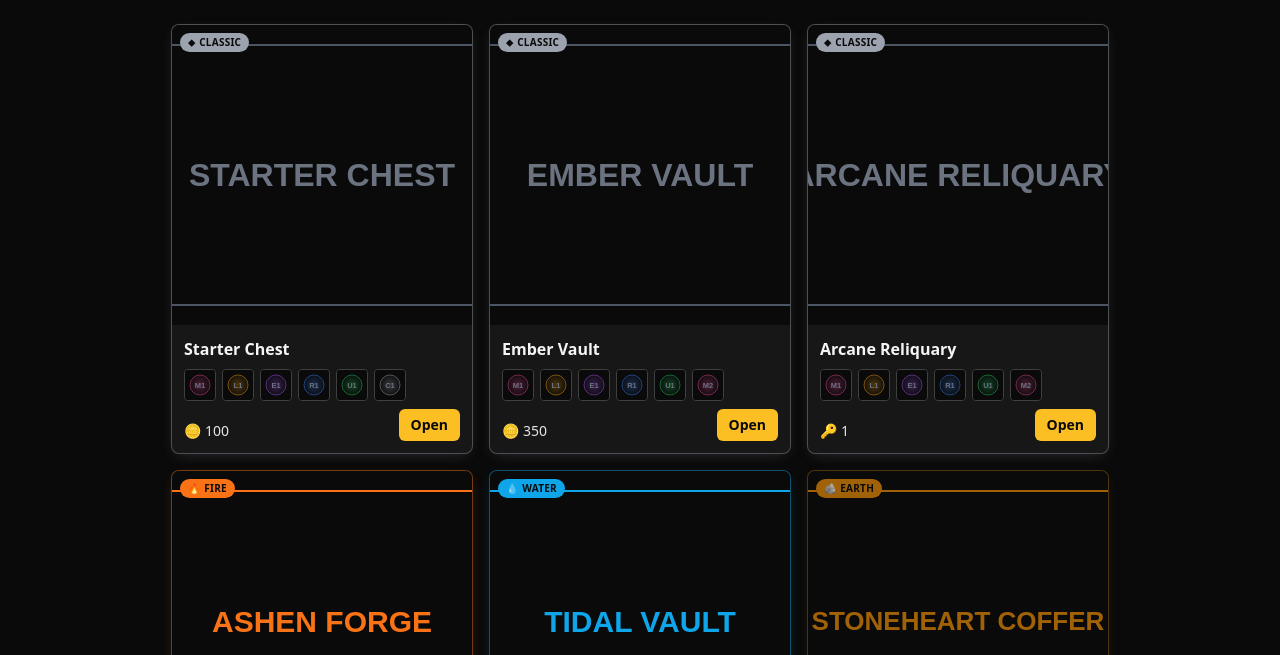
Test case: Lobby › clicking a case shows its odds table
(page scrolled)
Click the heading "Starter Chest".
click(237, 349)  # box [184,338,290,360]
(page scrolled)
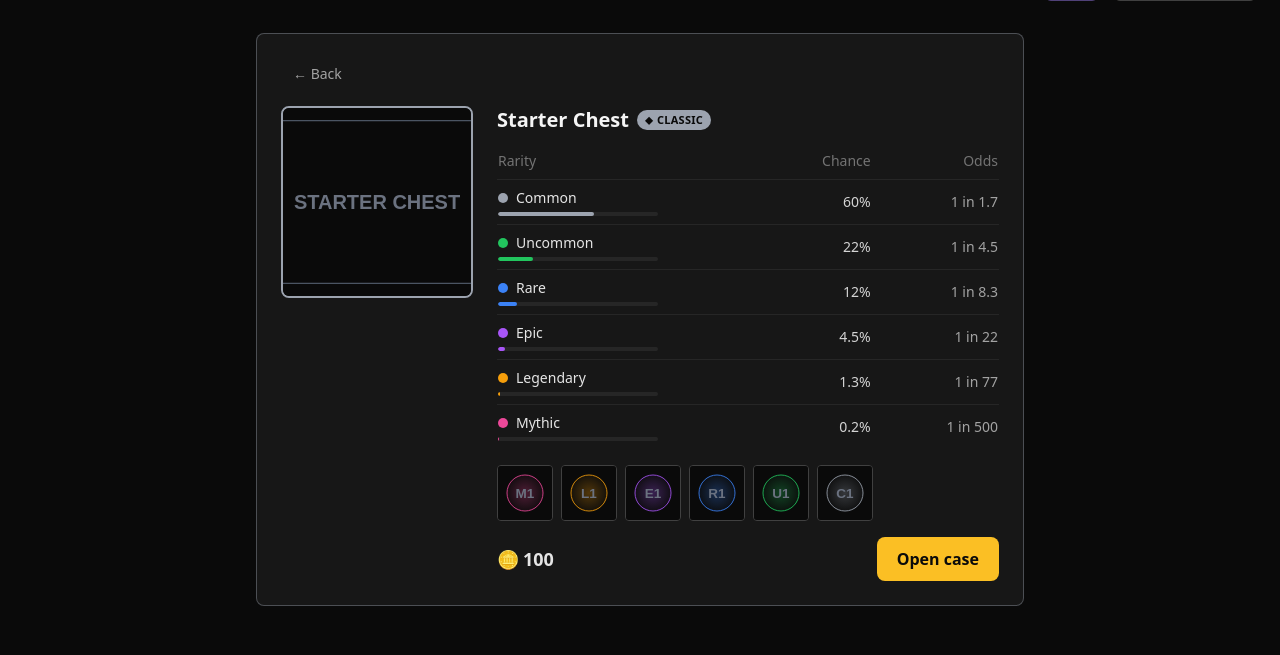
Now the text "mythic" is shown, box [516,413,560,433]
Now the text "1 in 500" is shown, box [879,404,999,449]
